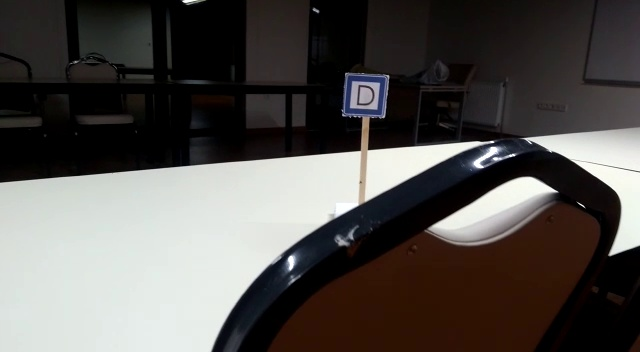durak: (342, 73, 391, 116)
